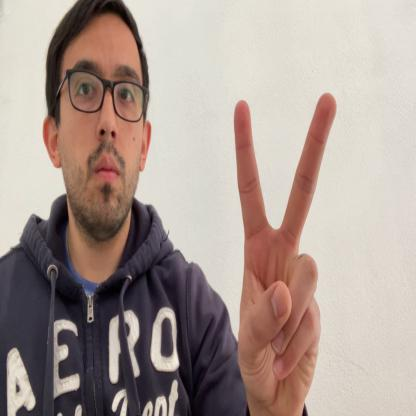V: (233, 92, 338, 415)
